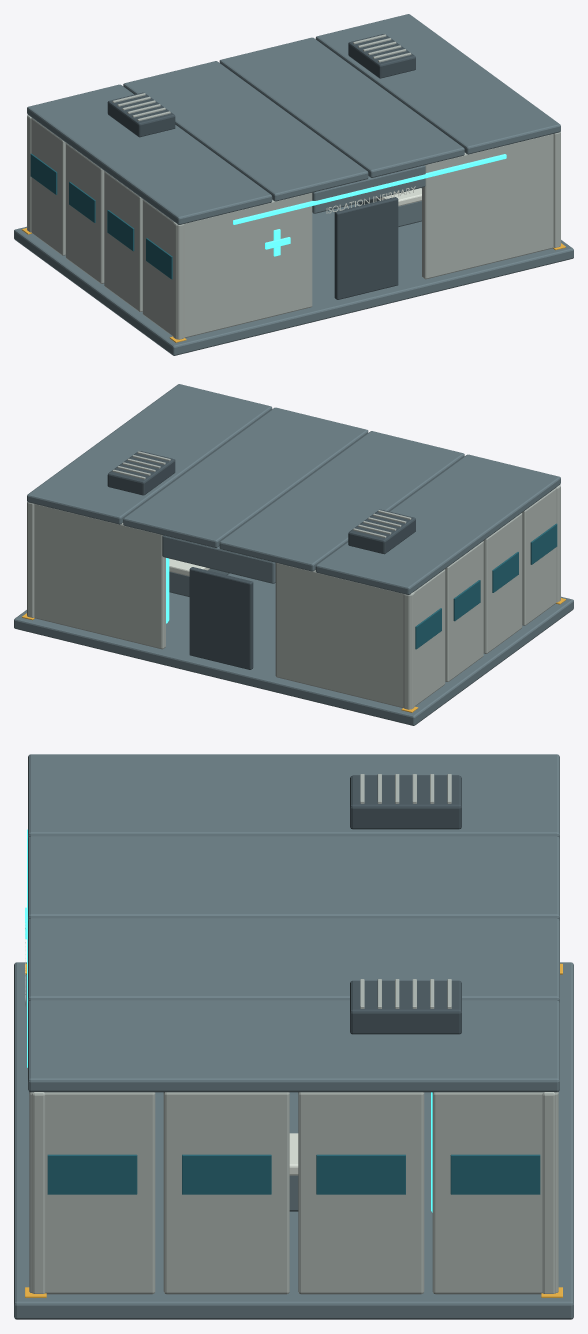
File: personnel_infirmary_d0.glb
3 views of the same model, one above another, from view 1: azimuth 30°, elevation 25°; view 2: azimuth 150°, elevation 25°; view 3: azimuth 270°, elevation 25° (orthographic). The views are drawn at different scales.
Visible parts, largest first — view 1: Removable roof segment.022, End bulkhead.029, End bulkhead.028, Removable roof segment.021, Removable roof segment.020, Removable roof segment.023, Foundation.008, Sealed airlock.008, Side pressure panel.048, Side pressure panel.046, Side pressure panel.047, Side pressure panel.049 (+11 smaller); view 2: End bulkhead.030, End bulkhead.031, Removable roof segment.022, Removable roof segment.021, Removable roof segment.020, Removable roof segment.023, Foundation.008, Sealed airlock.009, Side pressure panel.047, Side pressure panel.049, Side pressure panel.048, Side pressure panel.046 (+10 smaller); view 3: Removable roof segment.023, Removable roof segment.021, Removable roof segment.022, Removable roof segment.020, Foundation.008, Side pressure panel.051, Side pressure panel.052, Side pressure panel.050, Side pressure panel.053, Roof heat exchanger.010, Roof heat exchanger.011, Observation glass.044 (+5 smaller).
Part boxes in pixels (x1=…): Removable roof segment.022: x1=219, y1=37, x2=464, y2=177; End bulkhead.029: x1=422, y1=132, x2=560, y2=279; End bulkhead.028: x1=173, y1=193, x2=312, y2=339; Removable roof segment.021: x1=123, y1=61, x2=368, y2=201; Removable roof segment.020: x1=27, y1=84, x2=272, y2=224; Removable roof segment.023: x1=315, y1=14, x2=560, y2=154; Foundation.008: x1=14, y1=188, x2=573, y2=355; Sealed airlock.008: x1=334, y1=197, x2=398, y2=299; Side pressure panel.048: x1=65, y1=143, x2=104, y2=283; Side pressure panel.046: x1=142, y1=199, x2=184, y2=339; Side pressure panel.047: x1=104, y1=171, x2=142, y2=311; Side pressure panel.049: x1=27, y1=115, x2=65, y2=255; End bulkhead.030: x1=275, y1=563, x2=414, y2=709; End bulkhead.031: x1=27, y1=502, x2=165, y2=649; Removable roof segment.022: x1=123, y1=407, x2=368, y2=547; Removable roof segment.021: x1=219, y1=431, x2=464, y2=571; Removable roof segment.020: x1=315, y1=454, x2=560, y2=594; Removable roof segment.023: x1=27, y1=384, x2=272, y2=524; Foundation.008: x1=14, y1=573, x2=573, y2=725; Sealed airlock.009: x1=189, y1=567, x2=253, y2=669; Side pressure panel.047: x1=483, y1=513, x2=522, y2=653; Side pressure panel.049: x1=403, y1=569, x2=445, y2=709; Side pressure panel.048: x1=445, y1=541, x2=483, y2=681; Side pressure panel.046: x1=522, y1=485, x2=560, y2=625; Removable roof segment.023: x1=28, y1=1000, x2=559, y2=1092; Removable roof segment.021: x1=28, y1=836, x2=559, y2=920; Removable roof segment.022: x1=28, y1=918, x2=559, y2=1002; Removable roof segment.020: x1=28, y1=754, x2=559, y2=838; Foundation.008: x1=14, y1=962, x2=573, y2=1319; Side pressure panel.051: x1=163, y1=1092, x2=289, y2=1294; Side pressure panel.052: x1=298, y1=1092, x2=424, y2=1294; Side pressure panel.050: x1=29, y1=1092, x2=155, y2=1294; Side pressure panel.053: x1=432, y1=1092, x2=558, y2=1294; Roof heat exchanger.010: x1=350, y1=775, x2=461, y2=829; Roof heat exchanger.011: x1=350, y1=980, x2=461, y2=1034; Observation glass.044: x1=47, y1=1154, x2=137, y2=1194.
Size of the model in its own units: 13 by 4.61 by 9.
